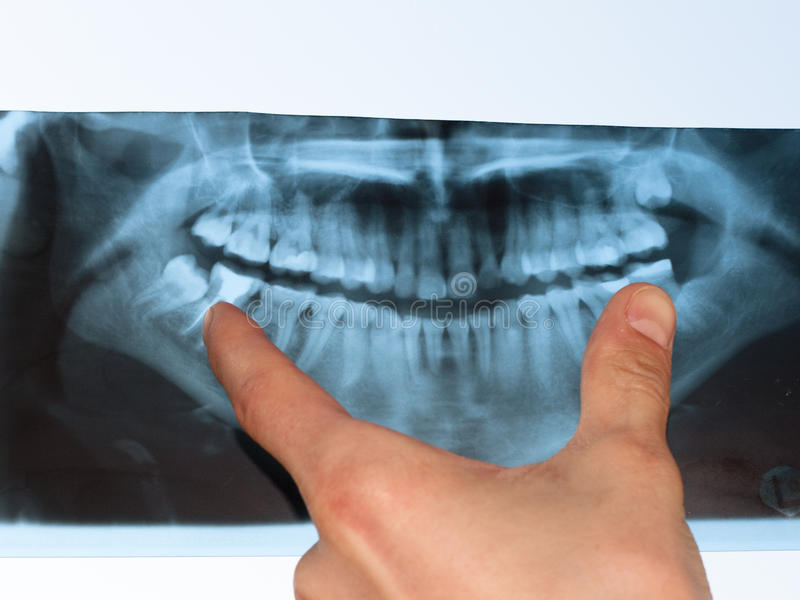canine: (364, 189, 399, 299), (487, 296, 526, 394), (368, 301, 404, 406)
incisor: (413, 204, 449, 305), (444, 206, 476, 300), (474, 199, 506, 291), (468, 308, 499, 386), (397, 201, 419, 306), (442, 307, 473, 378), (419, 311, 452, 377), (401, 306, 426, 388)
molar: (122, 252, 207, 318), (266, 180, 321, 280), (572, 178, 631, 270), (607, 175, 669, 261), (546, 174, 586, 283), (225, 188, 278, 266), (183, 189, 237, 250), (631, 168, 676, 213)
premolar: (330, 297, 380, 396), (515, 289, 559, 397), (294, 289, 344, 375), (519, 185, 559, 289), (338, 197, 376, 296), (308, 192, 344, 292), (546, 281, 586, 364), (500, 192, 529, 291)
